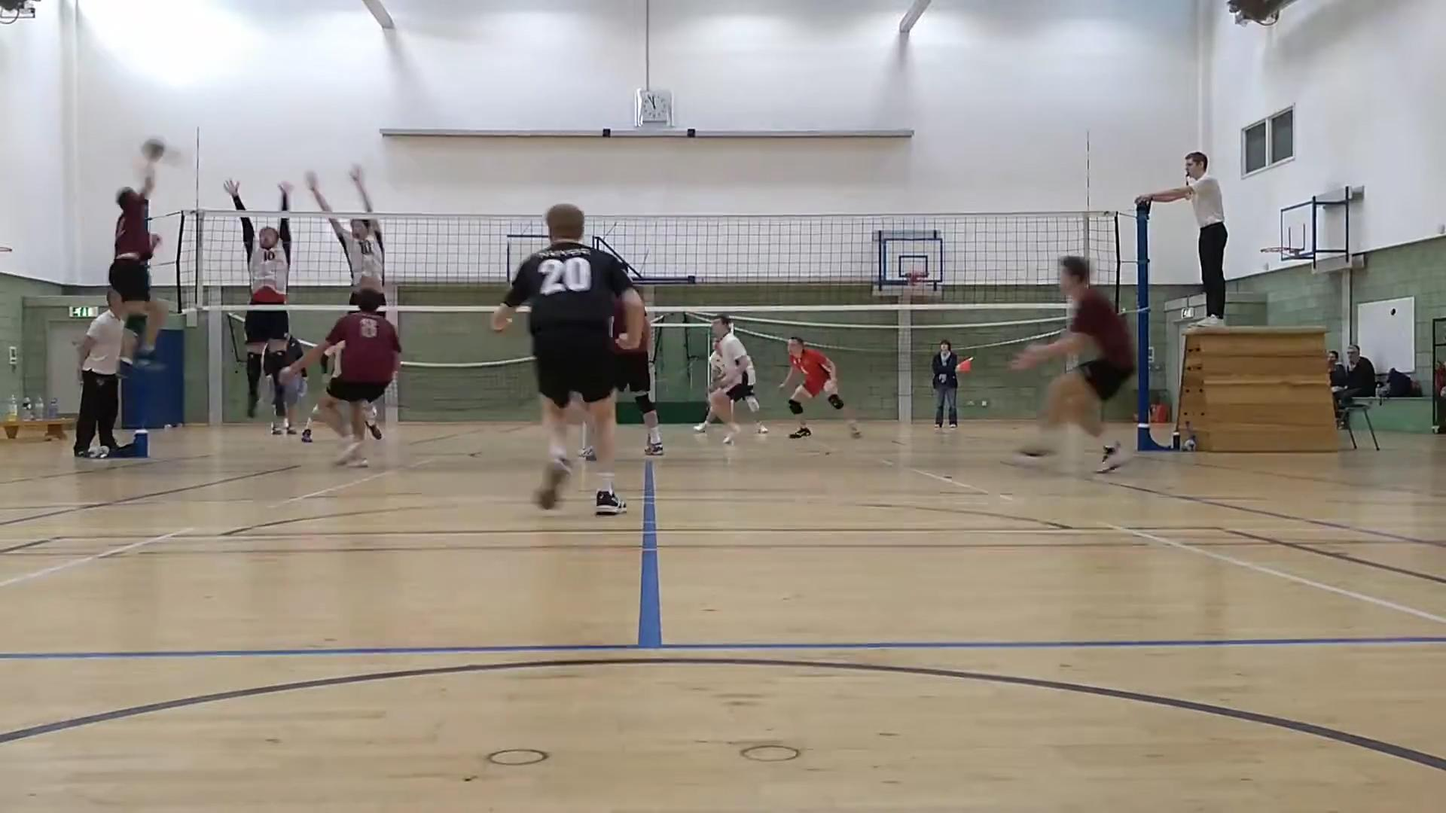attacco: (104, 139, 184, 374)
muro: (213, 167, 302, 428), (300, 149, 396, 307)
